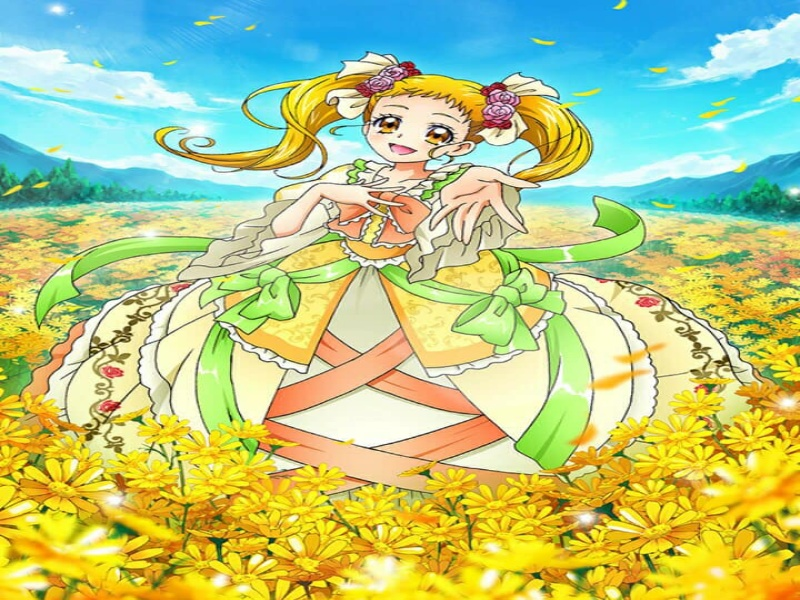dress: (105, 173, 740, 491)
person: (354, 66, 498, 173)
